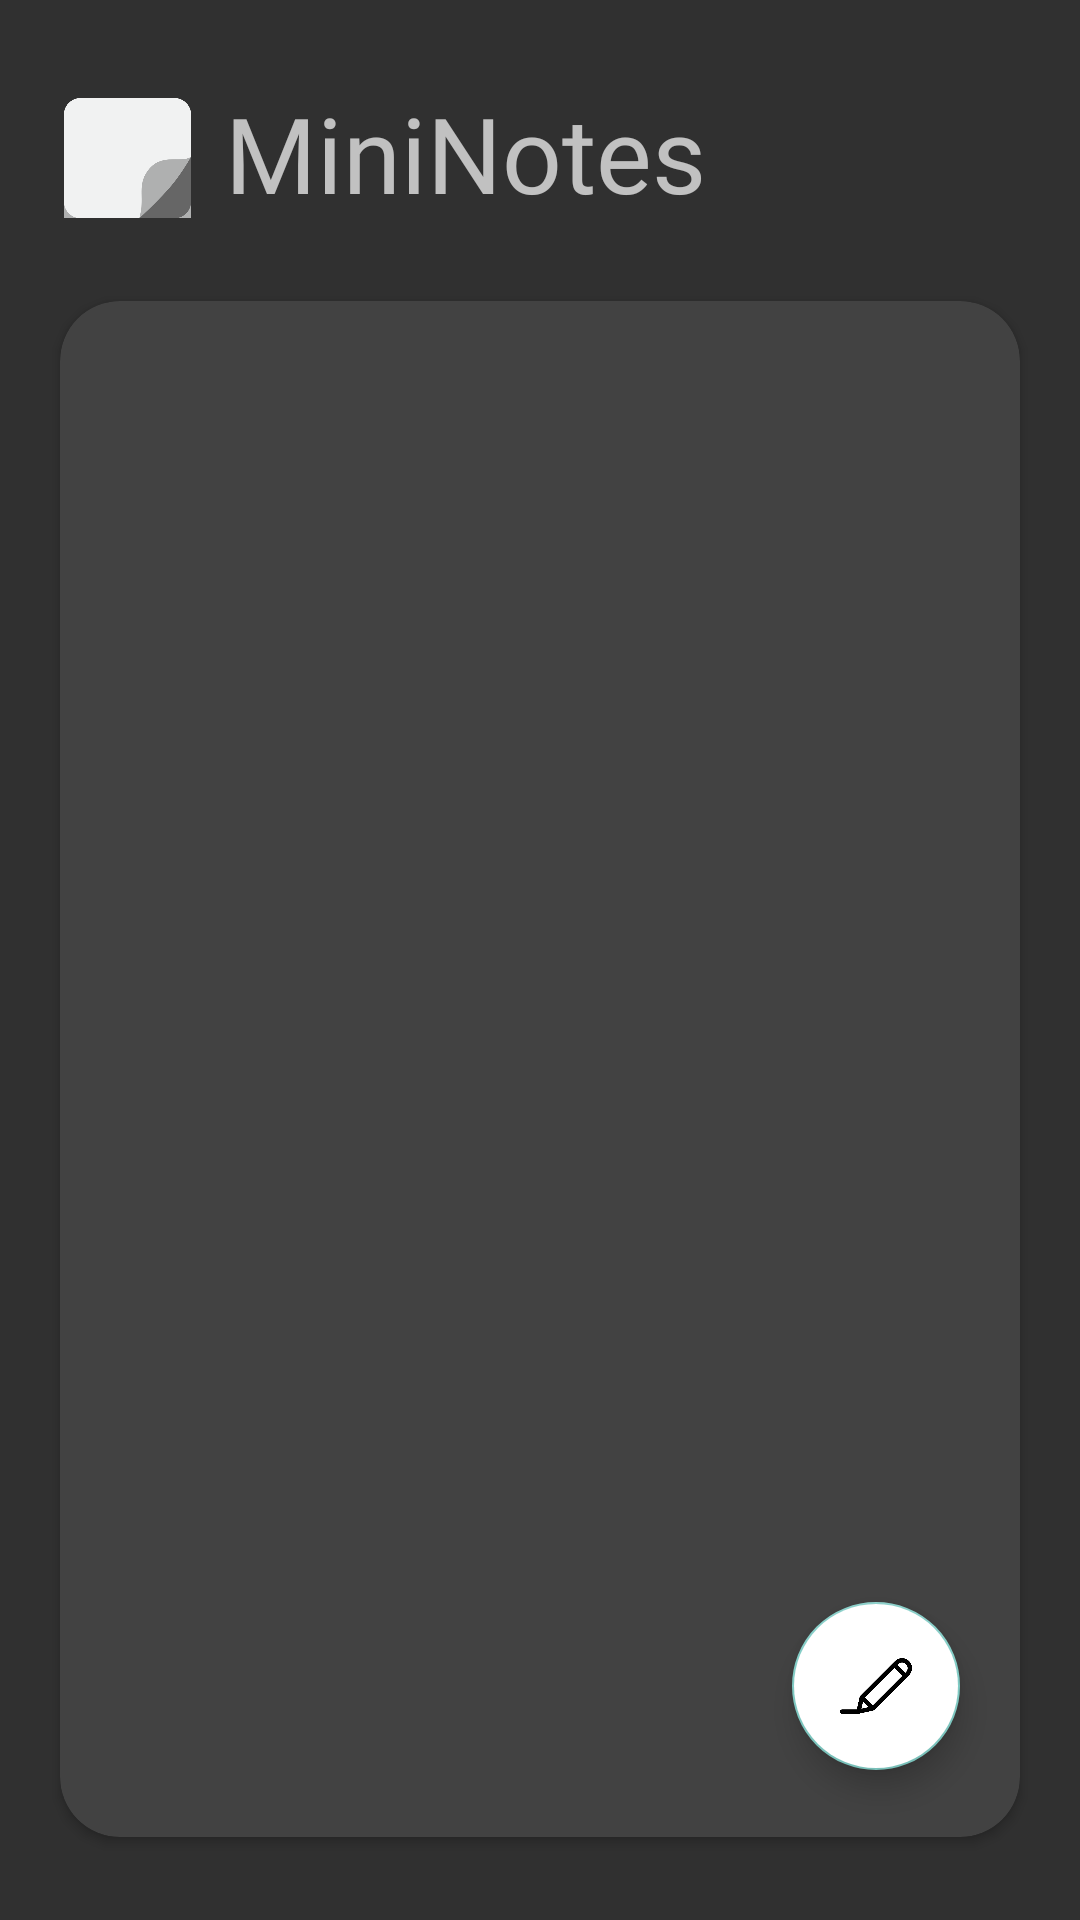

Icon bounding boxes for this 1080 x 1920 phone screenshot, format (x1, y1, x2, y2):
Add a Note: (792, 1602, 960, 1770)
